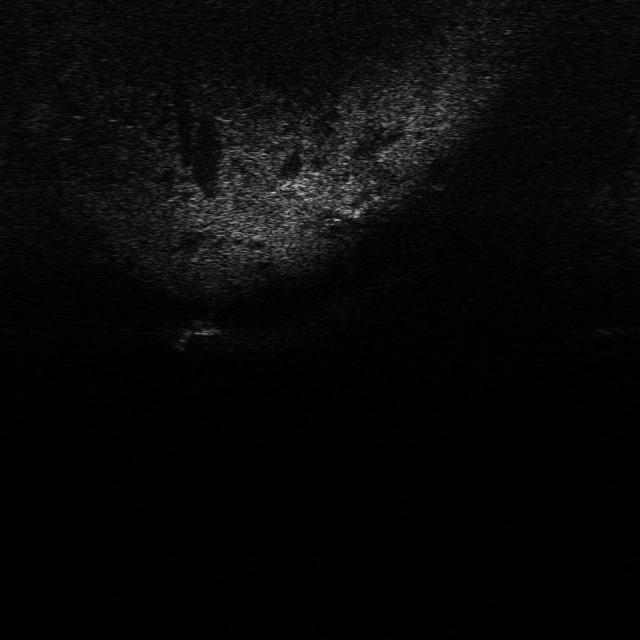cube: (183, 316, 223, 337)
cylinder: (172, 327, 193, 352)
